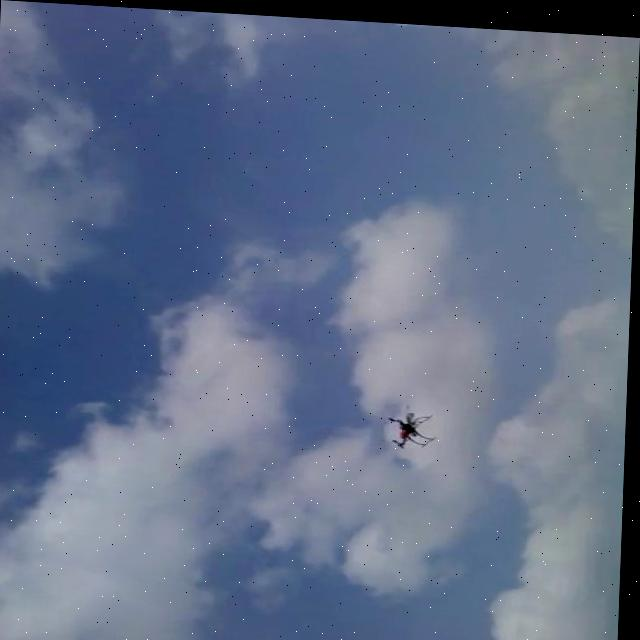drone: (384, 400, 438, 447)
